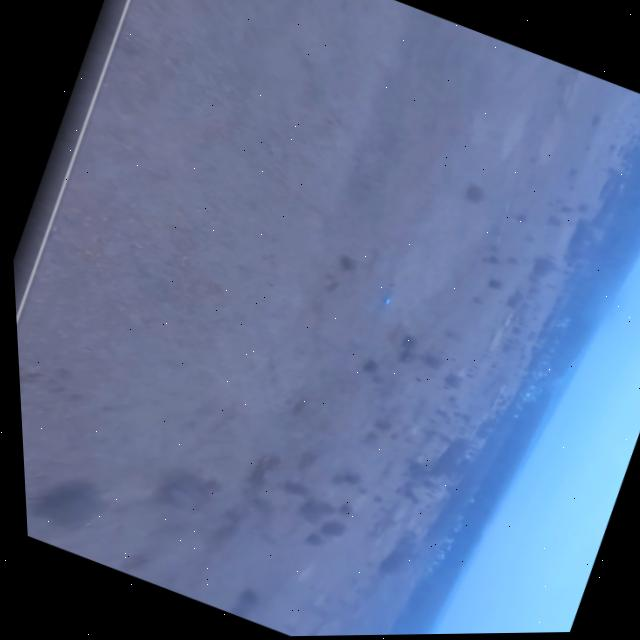planedrone: (372, 281, 404, 315)
